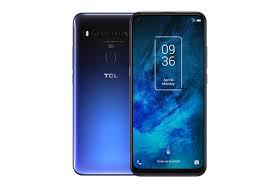Smartphone: (69, 8, 144, 182), (134, 11, 208, 173)
